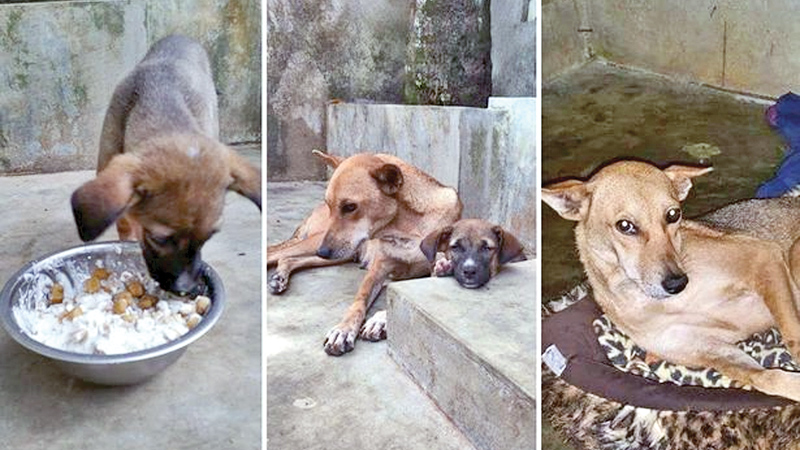Dog: (552, 138, 788, 406), (276, 124, 454, 367)
